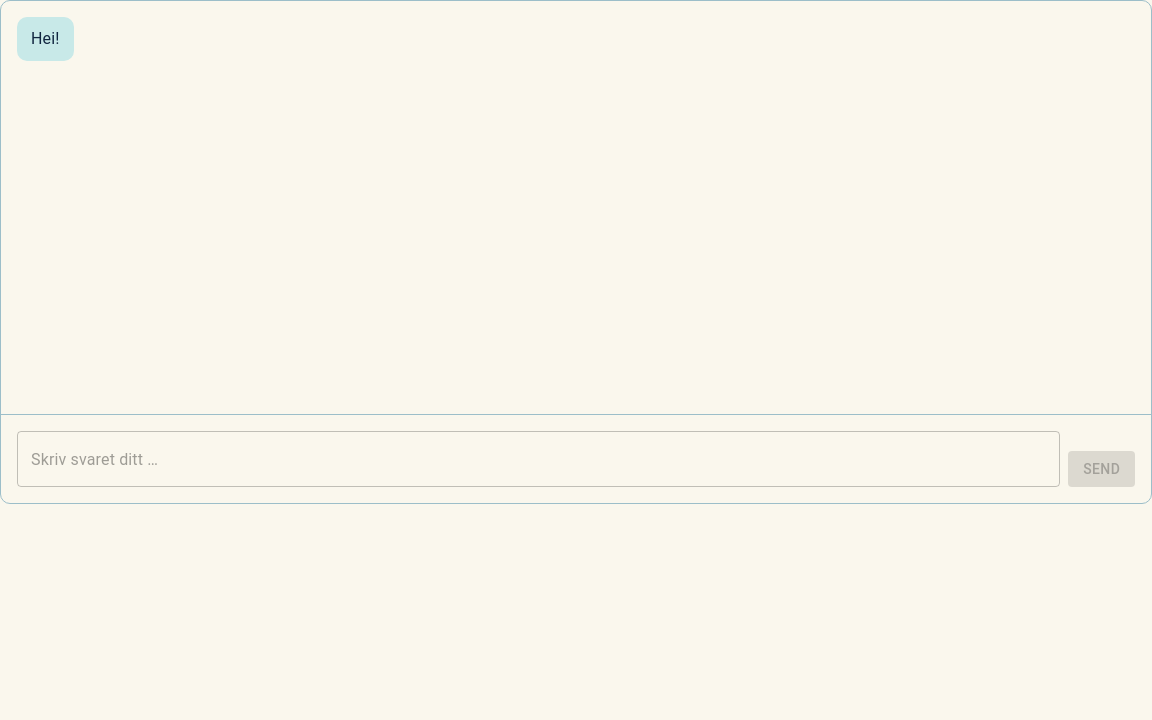
Test: AgentChat › never shows technical error text
Type "Hei" into the text box named "Melding".
click(539, 459); type("Hei")  # box [31,448,1046,470]
Then press Enter
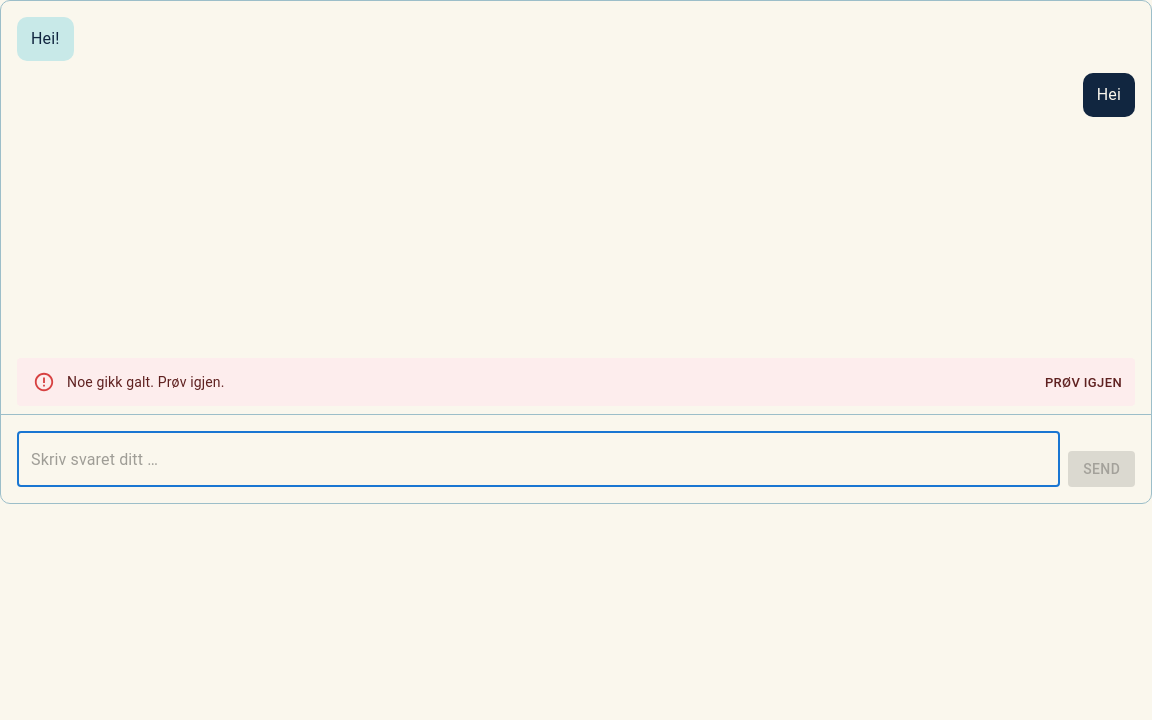
Expected: the message does not show "route.ts", [17,358,1135,406]
Expected: the message shows "Noe gikk galt. Prøv igjen.", [67,374,225,390]
